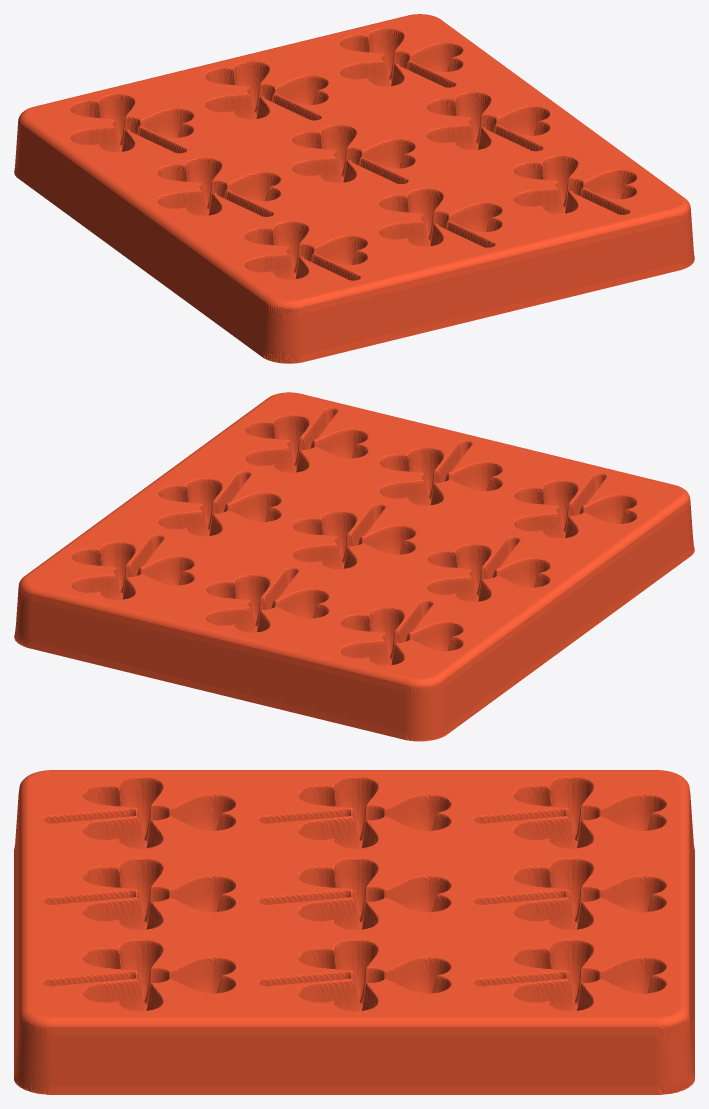
File: mold.glb
The picture shows the model from 3 angles, top to bottom: view 1: azimuth 30°, elevation 25°; view 2: azimuth 150°, elevation 25°; view 3: azimuth 270°, elevation 25°; orthographic projection. The views are drawn at different scales.
Visible parts, largest first — view 1: geometry_0; view 2: geometry_0; view 3: geometry_0.
Part boxes in pixels (bbox=[...]): geometry_0: bbox=[14, 14, 694, 363]; geometry_0: bbox=[14, 392, 694, 741]; geometry_0: bbox=[14, 770, 694, 1094].
Size of the model in its own units: 0.1435 by 0.0185 by 0.1595.
